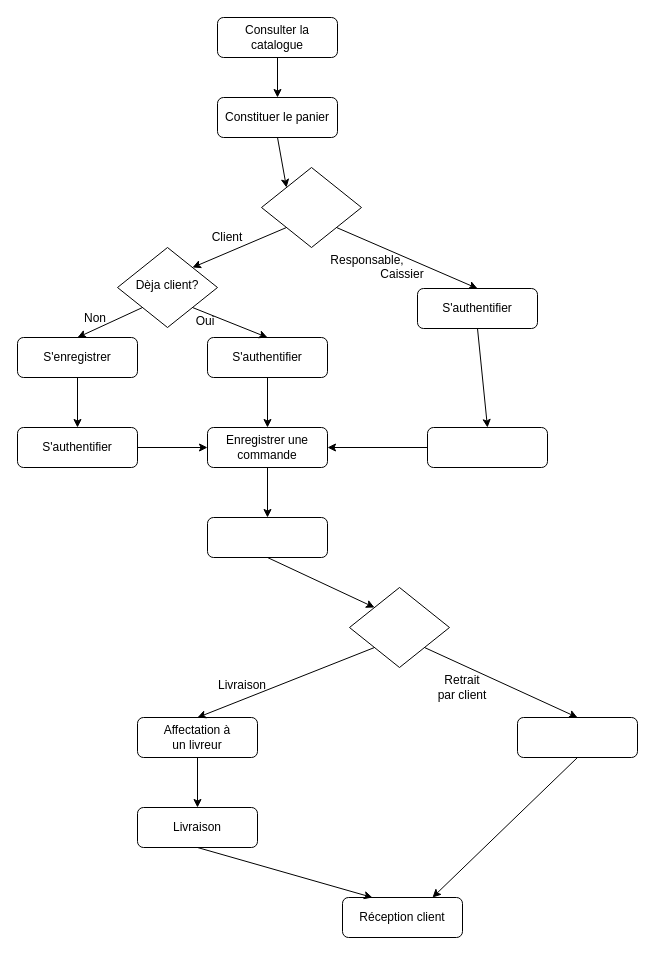
Some shapes in this 655 by 955 pixel diagram are drawn without their labels. The shapes that lost their labels are listed below. From the top down, each one's centre as x and y in pixels, then its label:
At (x=311, y=207): "Qui enregistre l'achat?".
At (x=487, y=447): "Sélectionner un client".
At (x=267, y=537): "Préparation".
At (x=399, y=627): "Mode de réception?".
At (x=577, y=737): "Retrait au comptoir".
